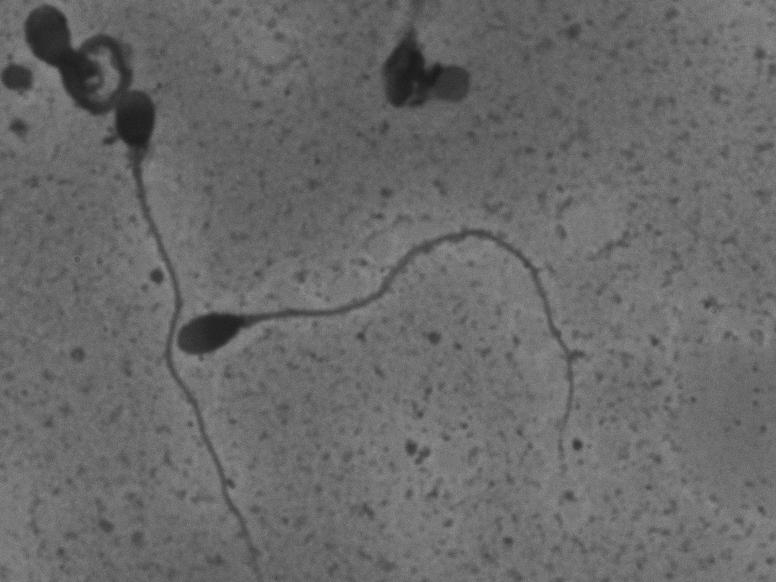Abnormal: (8, 0, 123, 101)
Normal: (174, 218, 584, 471), (106, 81, 265, 570)
